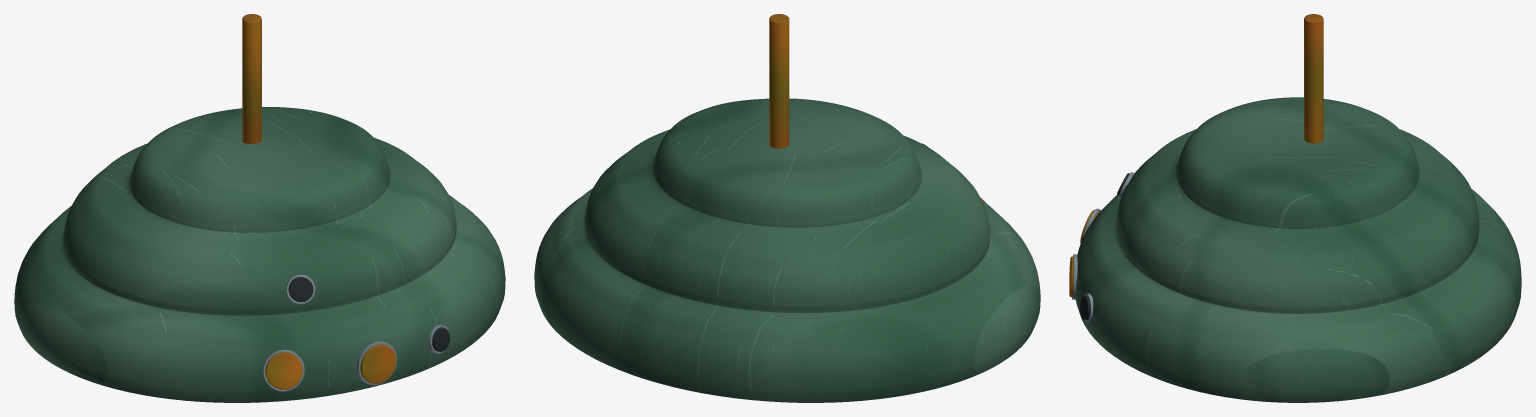
3 renders of one model, left to right at view 1: azimuth 30°, elevation 25°; view 2: azimuth 150°, elevation 25°; view 3: azimuth 270°, elevation 25°, orthographic. The views are drawn at different scales.
Visible parts, largest first — view 1: Nurseries three-tier green security shell, Nurseries central amber upright, Nurseries lower amber inset 0, Nurseries lower amber inset 1, Nurseries middle dark inset; view 2: Nurseries three-tier green security shell, Nurseries central amber upright; view 3: Nurseries three-tier green security shell, Nurseries central amber upright.
Part boxes in pixels (x1,y1,x2,y2): Nurseries three-tier green security shell: [14, 107, 505, 402]; Nurseries central amber upright: [242, 14, 261, 143]; Nurseries lower amber inset 0: [265, 352, 302, 389]; Nurseries lower amber inset 1: [360, 344, 396, 383]; Nurseries middle dark inset: [288, 277, 313, 301]; Nurseries three-tier green security shell: [534, 98, 1040, 402]; Nurseries central amber upright: [769, 14, 789, 148]; Nurseries three-tier green security shell: [1075, 97, 1521, 402]; Nurseries central amber upright: [1304, 14, 1323, 143].
Bounding box in the file's own units: 1.91 × 1.22 × 1.72.
Materials: 4 (3 with a texture image).
